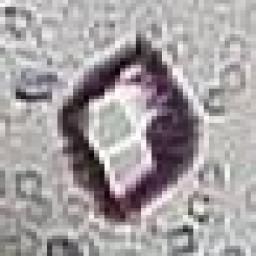crystals: (53, 37, 202, 218)
